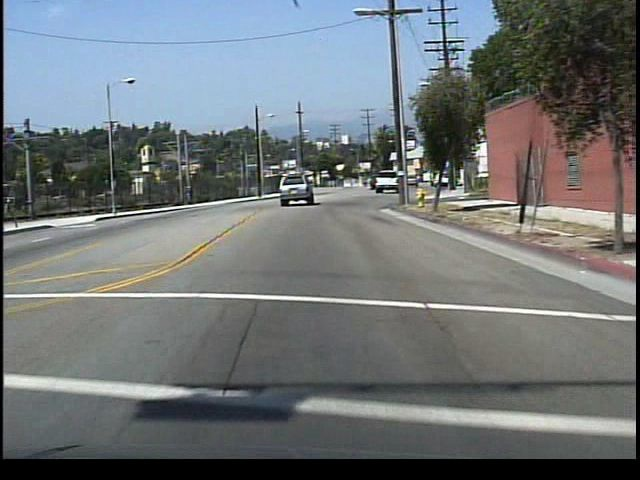person: (183, 182, 200, 207)
